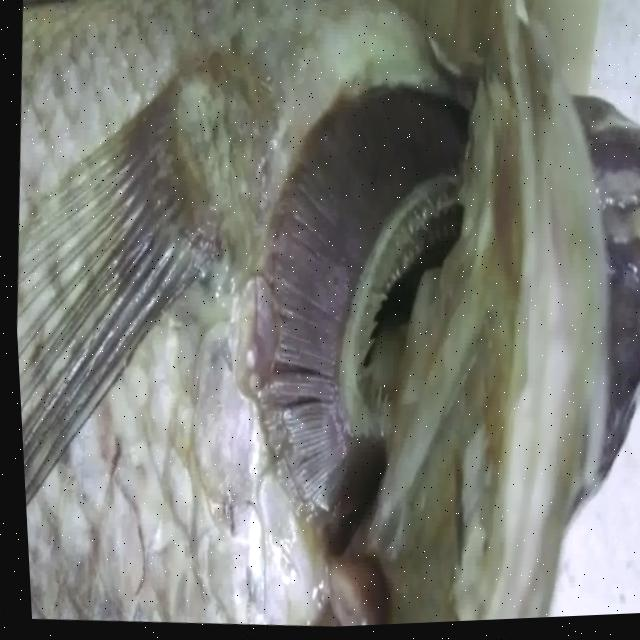Non-Fresh: (211, 45, 470, 543)
